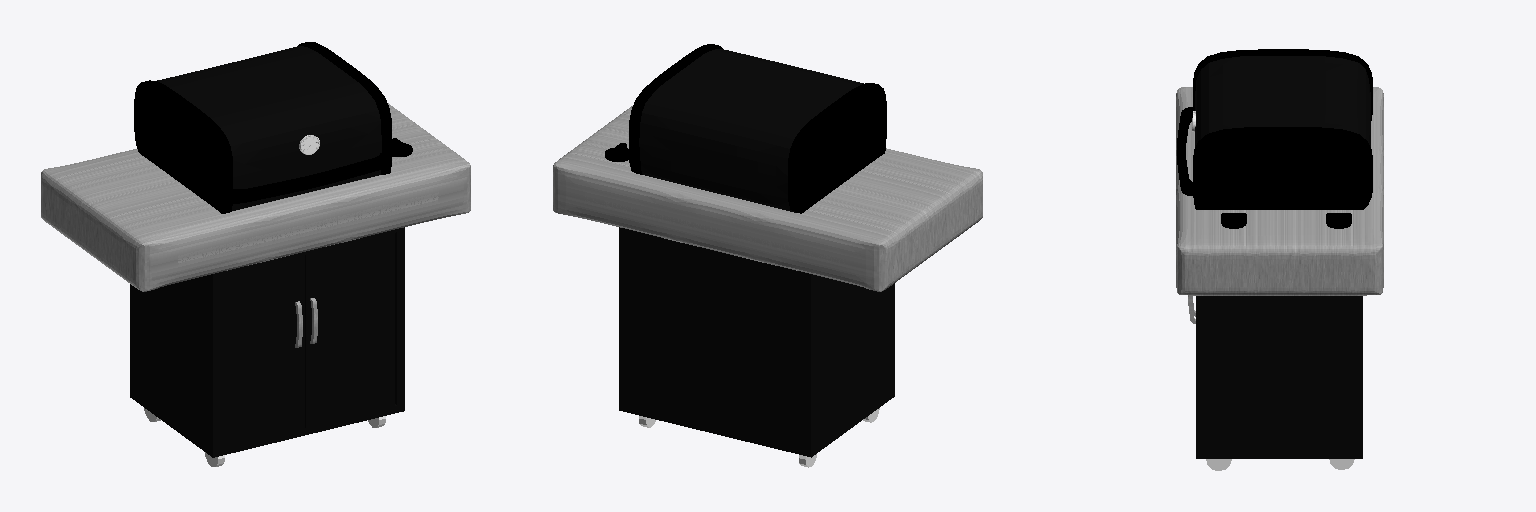
The picture shows the model from 3 angles: view 1: azimuth 30°, elevation 25°; view 2: azimuth 150°, elevation 25°; view 3: azimuth 270°, elevation 25°; orthographic projection.
Parts seen in each view (by area): view 1: PolyMesh_1, PolyMesh_2, PolyMesh_3, Cube_1_1, Cube_1, PolyMesh_4_1, PolyMesh_5, PolyMesh_4; view 2: PolyMesh_3, PolyMesh_1, PolyMesh_2, PolyMesh_4_1, PolyMesh_4; view 3: PolyMesh_3, PolyMesh_1, PolyMesh_4, PolyMesh_2, PolyMesh_4_1, PolyMesh_5.
Boxes of the visible parts, x1,y1,x2,y2 form: PolyMesh_1: [41, 103, 470, 291]; PolyMesh_2: [157, 46, 381, 210]; PolyMesh_3: [130, 227, 404, 457]; Cube_1_1: [305, 231, 394, 429]; Cube_1: [218, 253, 304, 450]; PolyMesh_4_1: [134, 80, 232, 213]; PolyMesh_5: [227, 152, 391, 203]; PolyMesh_4: [298, 42, 391, 174]; PolyMesh_3: [619, 227, 894, 457]; PolyMesh_1: [553, 106, 982, 291]; PolyMesh_2: [639, 49, 863, 212]; PolyMesh_4_1: [788, 83, 886, 213]; PolyMesh_4: [629, 44, 722, 174]; PolyMesh_3: [1196, 296, 1362, 458]; PolyMesh_1: [1176, 87, 1383, 295]; PolyMesh_4: [1193, 127, 1372, 209]; PolyMesh_2: [1195, 56, 1370, 146]; PolyMesh_4_1: [1193, 49, 1372, 120]; PolyMesh_5: [1177, 107, 1194, 195].
Bounding box in the file's own units: 3.62 × 3.5 × 1.95.
Materials: 5 (2 with a texture image).